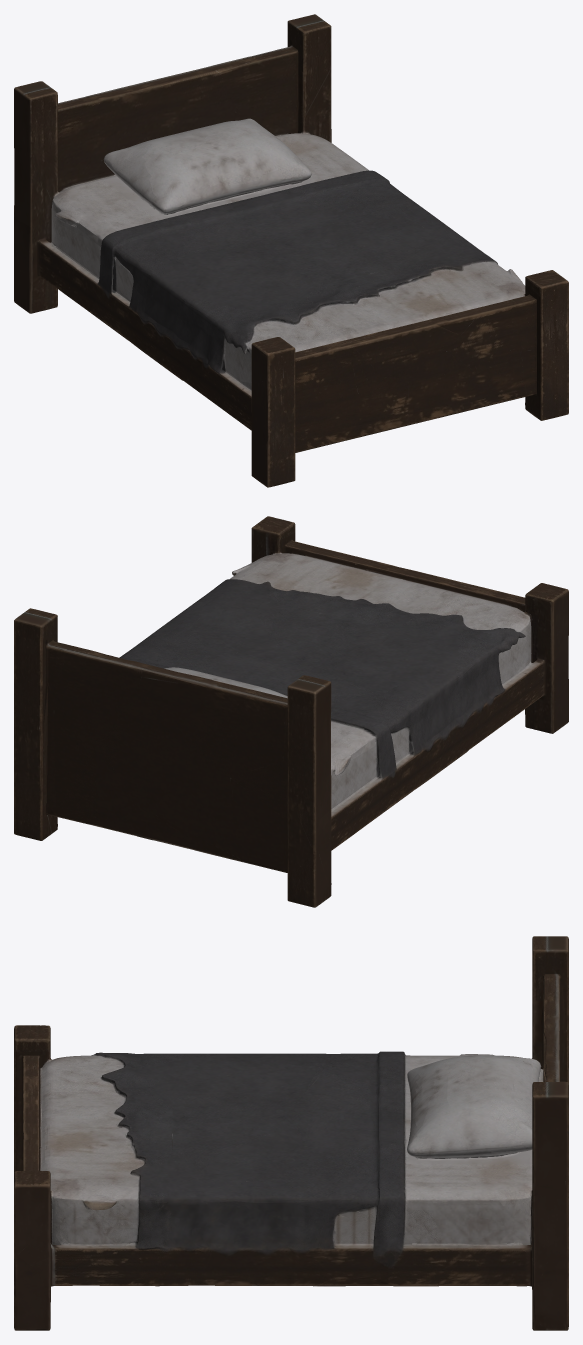
File: bed.glb
The picture shows the model from 3 angles, top to bottom: view 1: azimuth 30°, elevation 25°; view 2: azimuth 150°, elevation 25°; view 3: azimuth 270°, elevation 25°; orthographic projection. The views are drawn at different scales.
Visible parts, largest first — view 1: output_unwrapped; view 2: output_unwrapped; view 3: output_unwrapped.
Boxes of the visible parts, x1=… form: output_unwrapped: x1=14, y1=14, x2=568, y2=487; output_unwrapped: x1=14, y1=516, x2=568, y2=907; output_unwrapped: x1=14, y1=936, x2=568, y2=1330.
Bounding box in the file's own units: 1.3 × 0.8895 × 1.9.
Materials: 1 (1 with a texture image).
